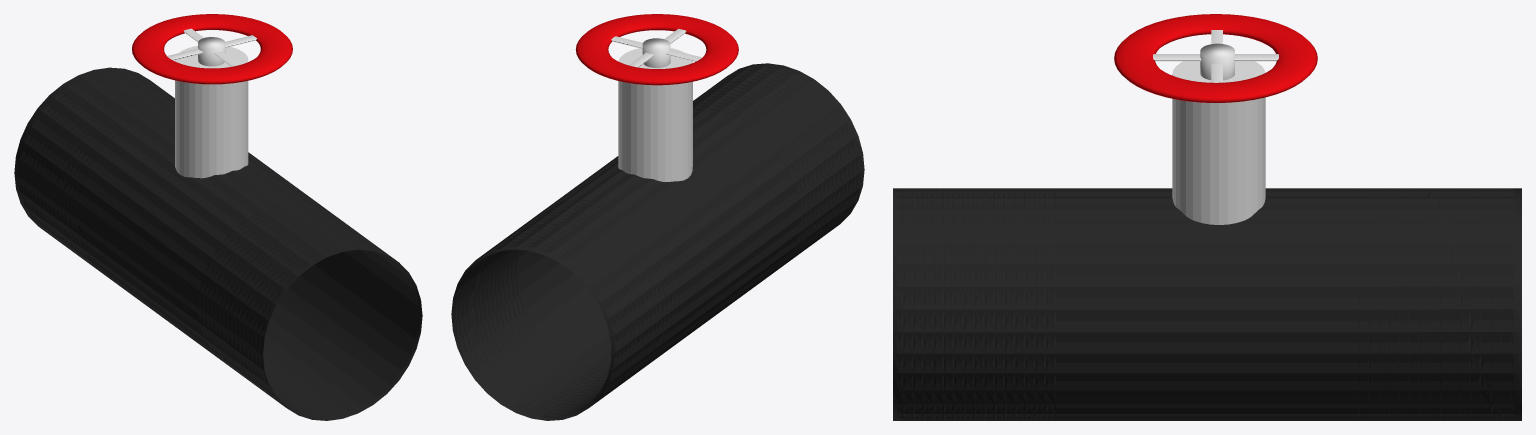
File: gas_valve.fbx
3 views of the same model, side by side, from view 1: azimuth 30°, elevation 25°; view 2: azimuth 150°, elevation 25°; view 3: azimuth 270°, elevation 25° (orthographic). The views are drawn at different scales.
Visible parts, largest first — view 1: Cylinder, Cylinder.001, Torus, Cylinder.002, Cube; view 2: Cylinder, Cylinder.001, Torus, Cylinder.002, Cube; view 3: Cylinder, Cylinder.001, Torus, Cylinder.002, Cube.001.
Boxes of the visible parts, <box> form: Cylinder: <box>14,67,422,420</box>; Cylinder.001: <box>175,45,248,178</box>; Torus: <box>132,14,292,84</box>; Cylinder.002: <box>198,37,225,66</box>; Cube: <box>167,35,256,60</box>; Cylinder: <box>451,63,864,420</box>; Cylinder.001: <box>618,48,692,181</box>; Torus: <box>575,14,738,85</box>; Cylinder.002: <box>642,38,670,67</box>; Cube: <box>611,36,702,61</box>; Cylinder: <box>893,188,1521,420</box>; Cylinder.001: <box>1172,61,1265,224</box>; Torus: <box>1114,14,1317,102</box>; Cylinder.002: <box>1200,43,1234,80</box>; Cube.001: <box>1153,54,1278,61</box>.
Bounding box in the file's own units: 200 × 339 × 540.
